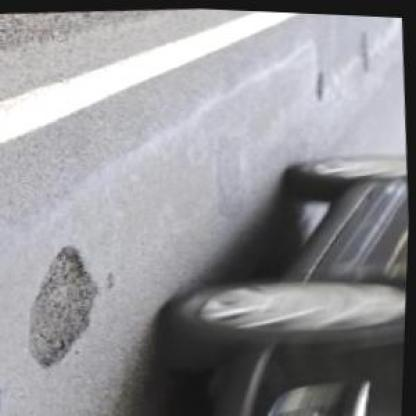pothole: (18, 240, 104, 373)
